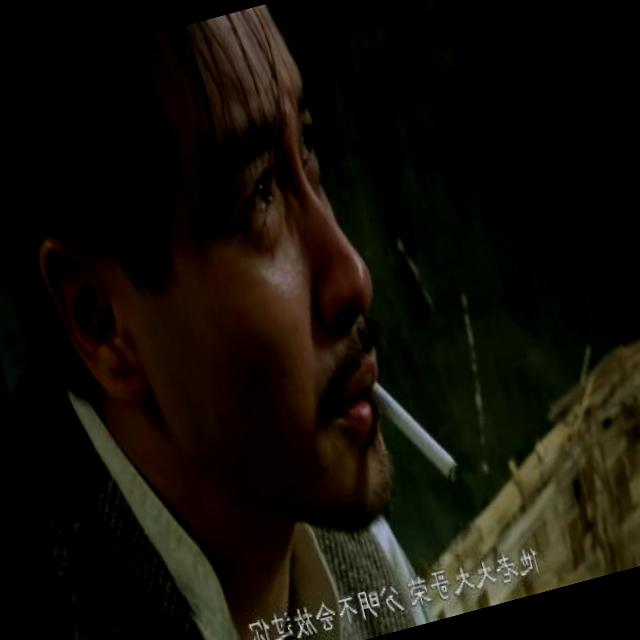cigarette: (348, 358, 472, 506)
